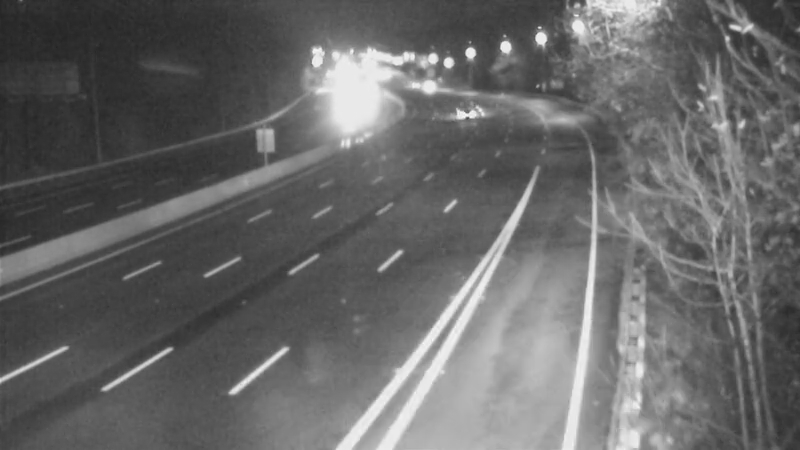vehicle: (444, 89, 494, 139)
